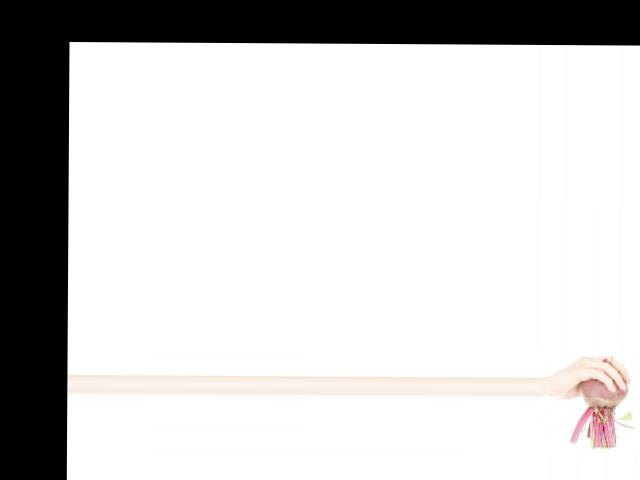beet: (570, 357, 635, 448)
